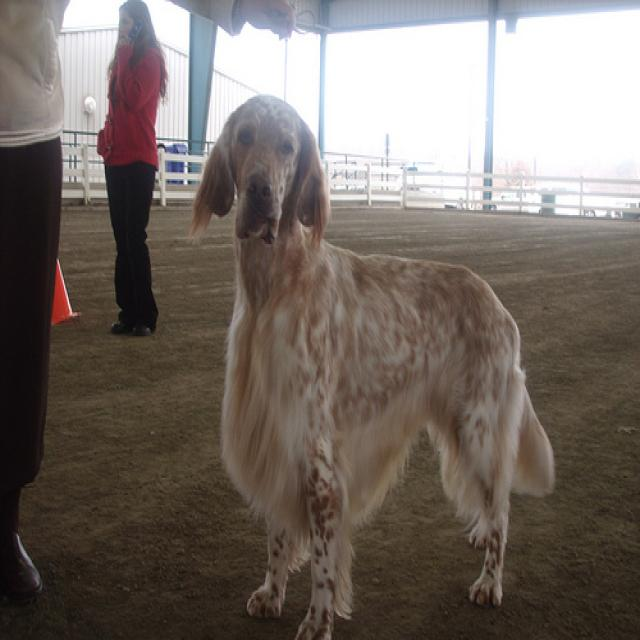dog: (193, 92, 328, 242)
